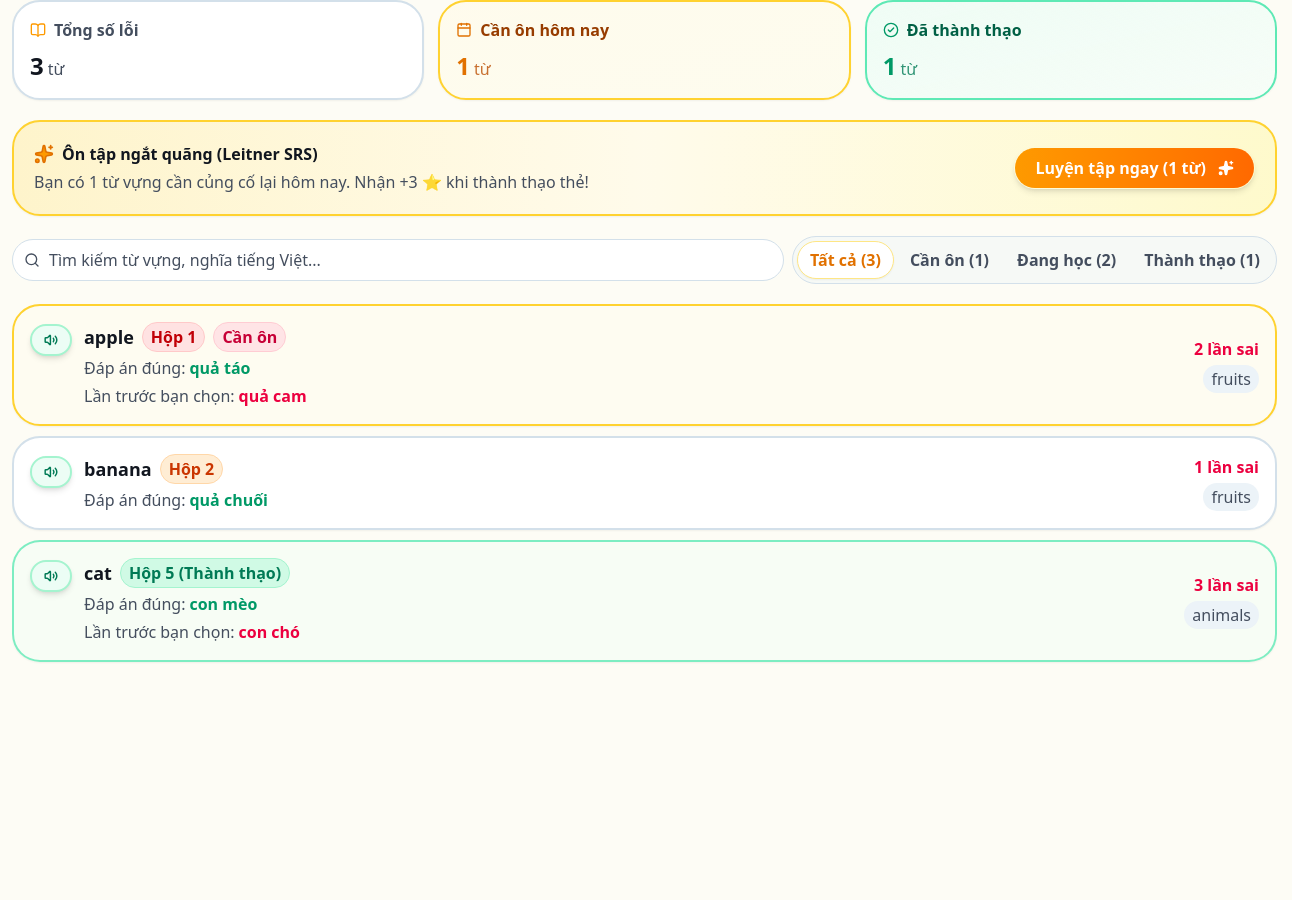
Scenario: MistakeNotebookTab Component › filters cards by status (All, Due, Mastered) and search text
This screenshot has width=1292, height=900.
Check: the text "apple" is shown, box [84,323,134,351]
Note: Filter by Due ("Cần ôn")
Click the button "Cần ôn (1)" at (949, 260), box [898,242,1001,278]
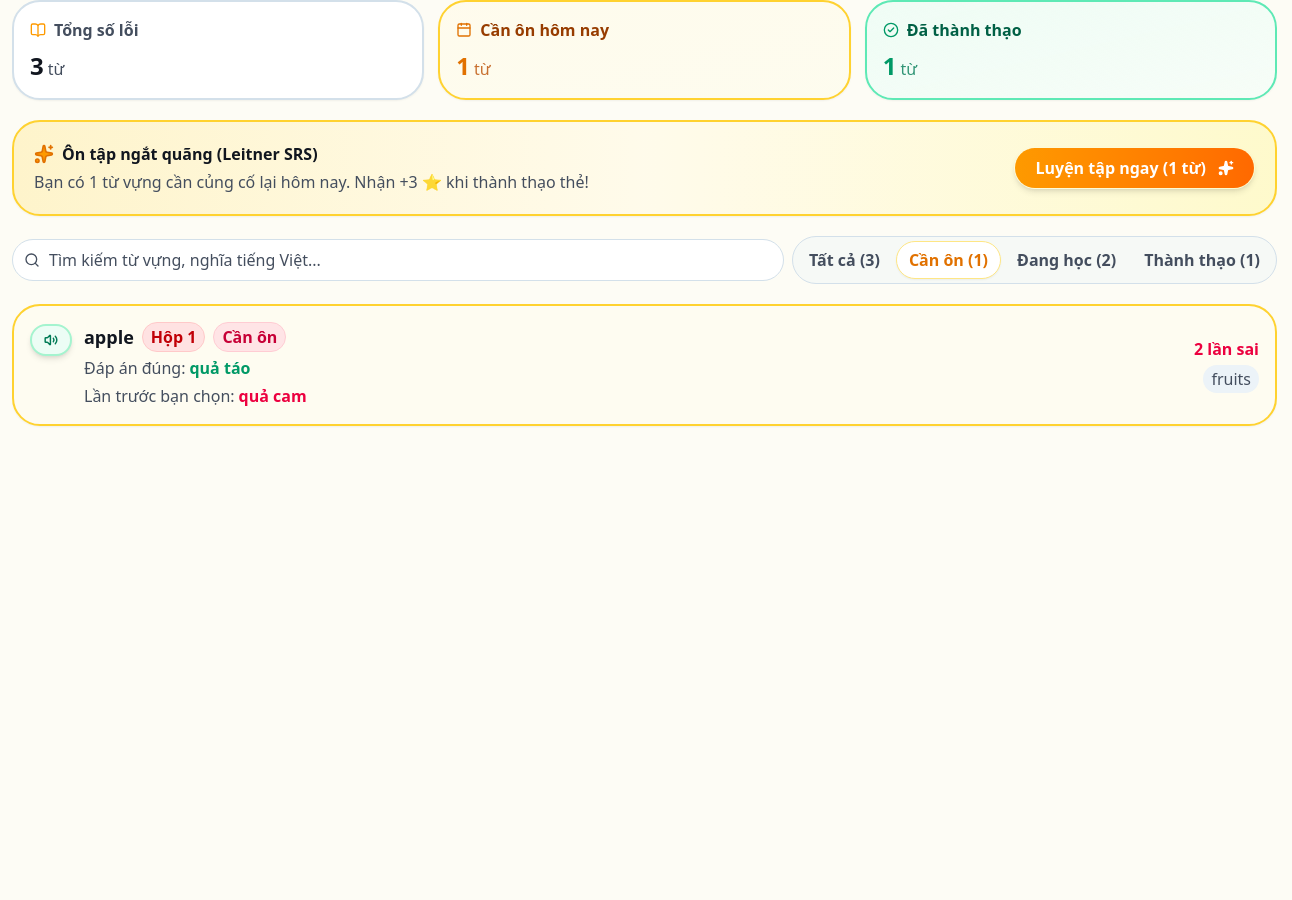
Check: the text "apple" is shown, box [84,323,134,351]
Check: the text "banana" is gone
Check: the text "cat" is gone
Note: Filter by Mastered ("Thành thạo")
Click the button "Thành thạo (1)" at (1202, 260), box [1132,242,1272,278]
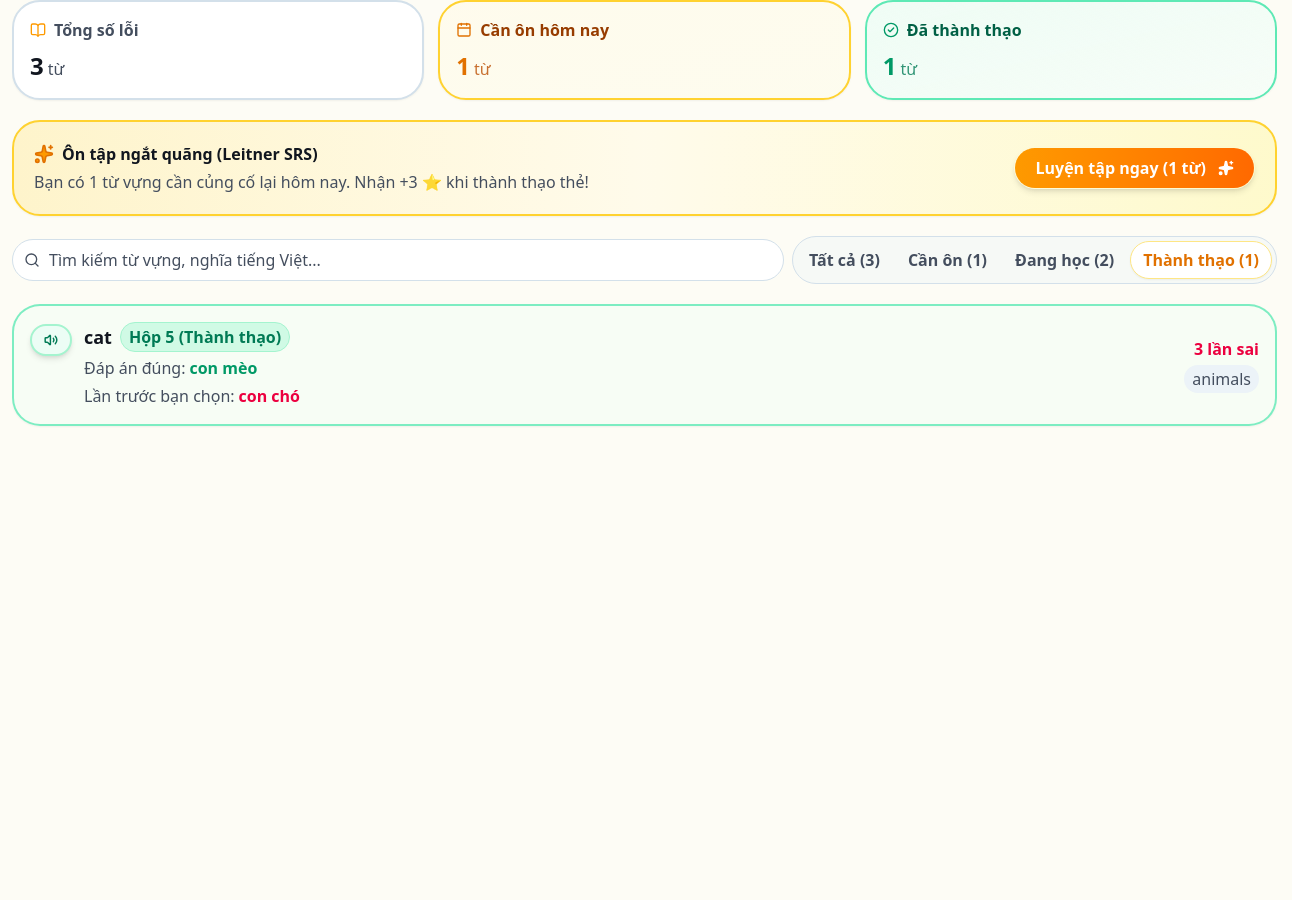
Check: the text "banana" is not shown
Check: the text "apple" is gone
Check: the text "cat" is shown, box [84,323,112,351]
Note: Switch back to All
Click the button "Tất cả (3)" at (844, 260), box [797,242,892,278]
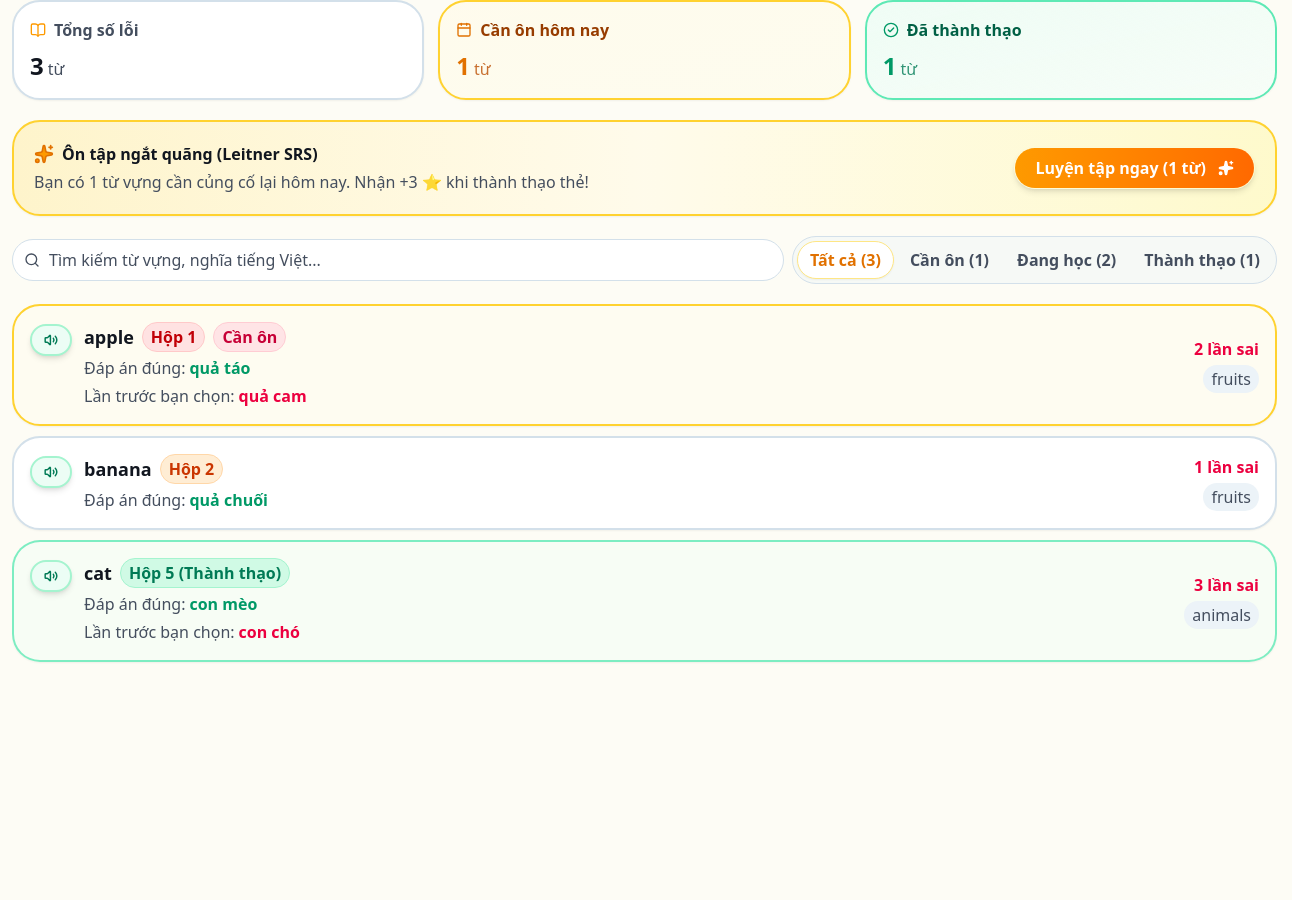
Note: Search input
Type "banana" into the field with placeholder "Tìm kiếm từ vựng, nghĩa tiếng Việt..." at (398, 260), box [12,239,784,281]
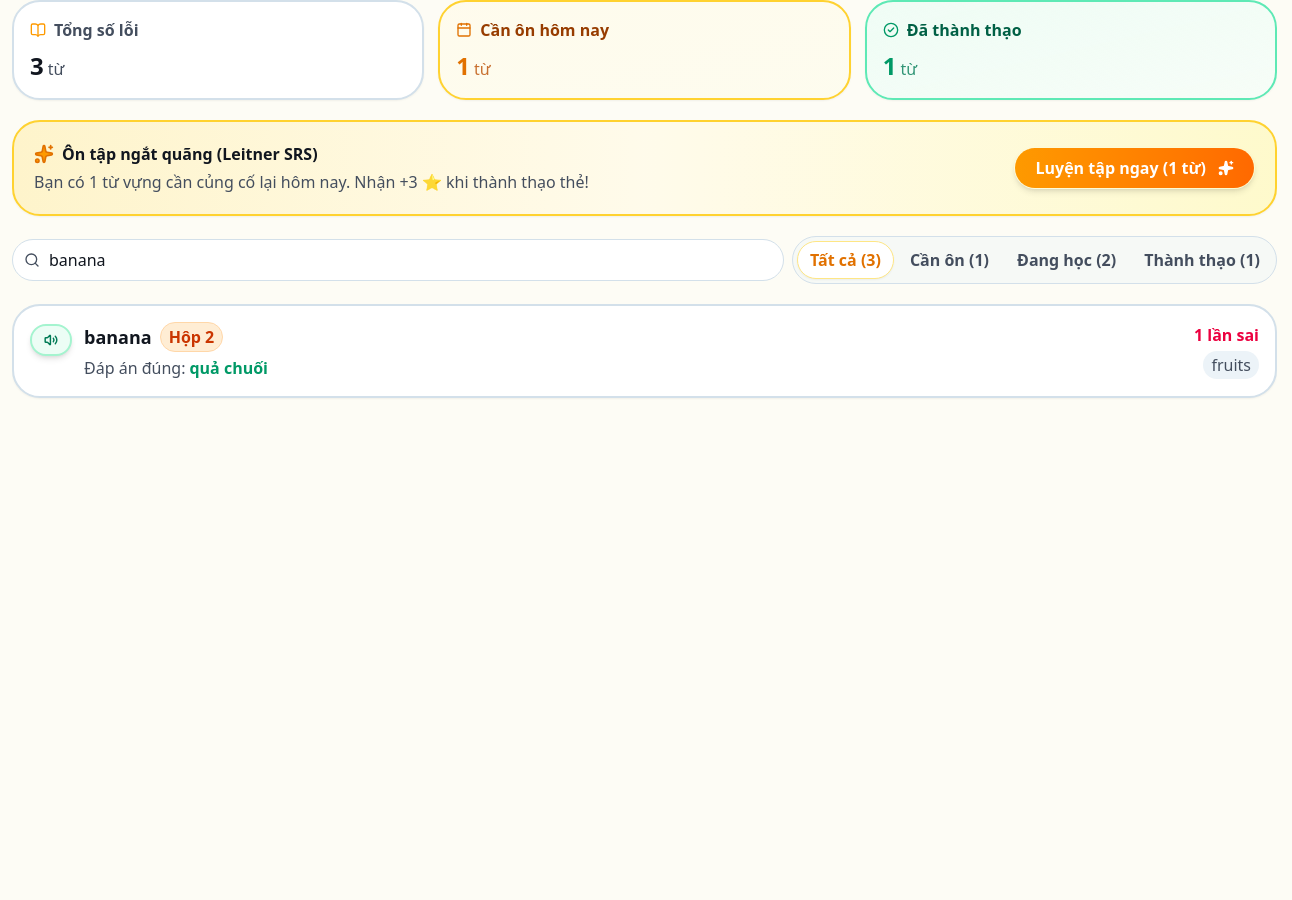
Check: the text "banana" is shown, box [84,323,152,351]
Check: the text "apple" is gone
Check: the text "cat" is gone
